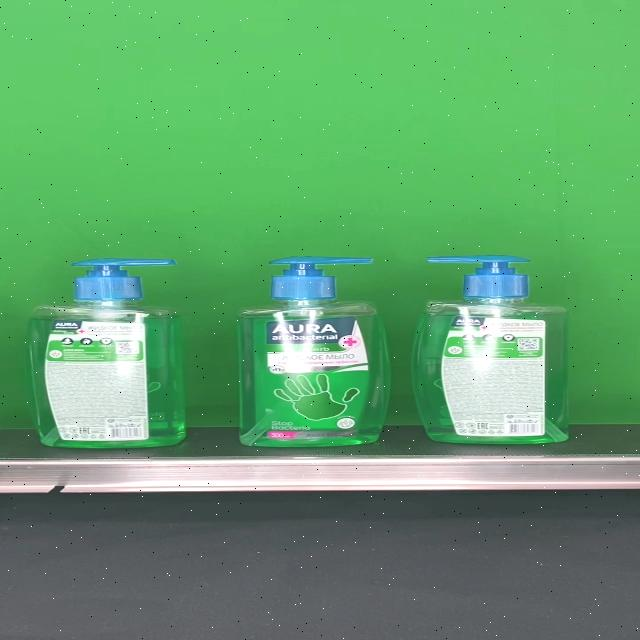Bottle: (27, 257, 186, 447), (409, 256, 569, 444), (237, 255, 392, 447)
Cap: (424, 256, 530, 298), (267, 256, 372, 298), (71, 257, 174, 299)
